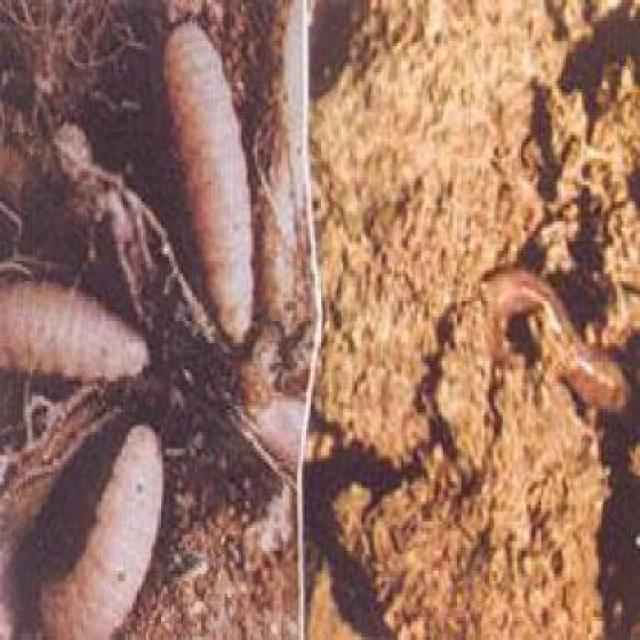whorl-maggot: (161, 12, 260, 353), (35, 417, 166, 638), (0, 276, 152, 389)
